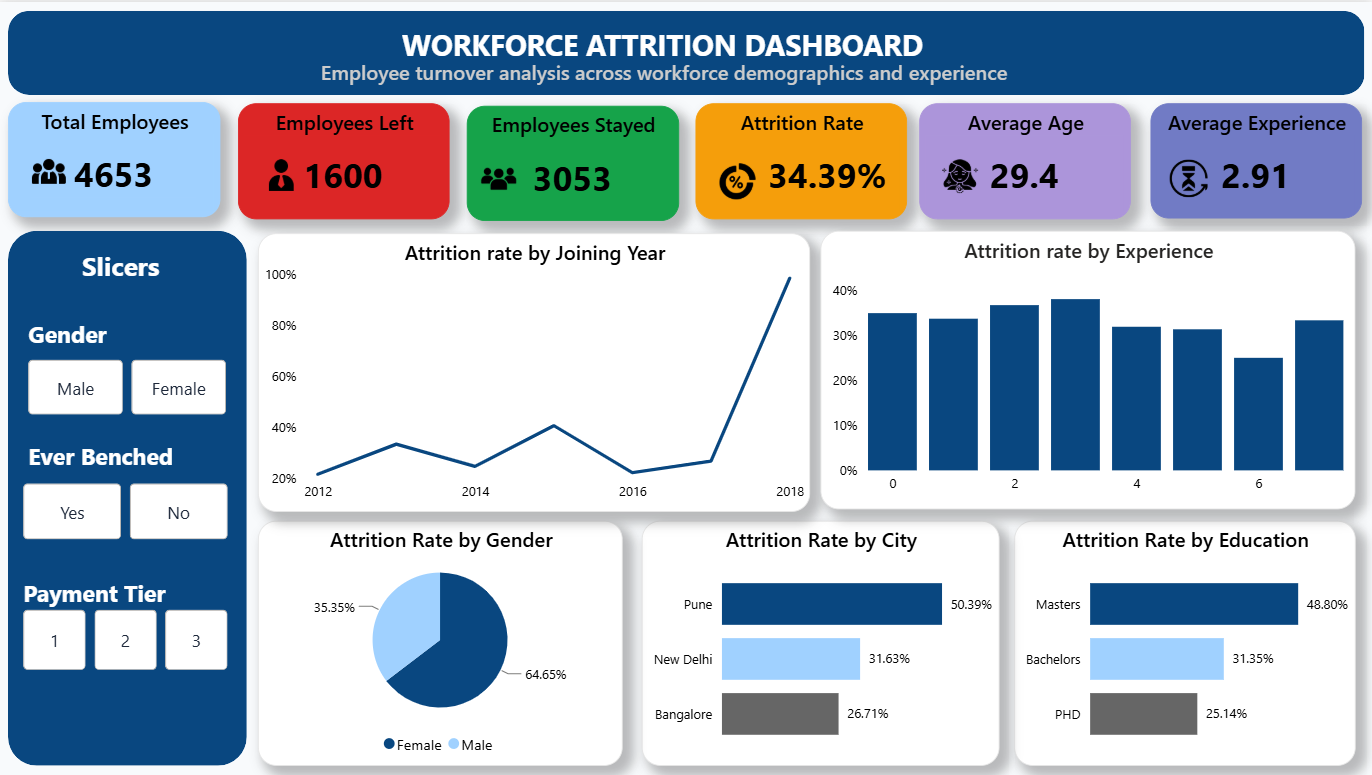

What the dashboard file says about the page in this screenshot:
{"tool":"powerbi","page":{"name":"Page 1","canvas":[1280,720],"ordinal":0},"visuals":[{"type":"shape","box":[9.8,8.6,1262,78.3],"z":0},{"type":"cardVisual","title":"Total Employees","fields":{"Data":["Employee.Total Employee"]},"box":[9.3,93,197.5,107.5],"z":0,"group":"g1"},{"type":"cardVisual","title":"Employees Left","fields":{"Data":["Employee.Employees Left"]},"box":[223.8,93.8,196.9,107.6],"z":0,"group":"g2"},{"type":"cardVisual","title":"Attrition Rate","fields":{"Data":["Employee.Attrition rate"]},"box":[648.8,93.8,196.9,107.6],"z":0,"group":"g4"},{"type":"cardVisual","title":"Average Age","fields":{"Data":["Employee.Average Age"]},"box":[857.5,93.8,196.9,107.6],"z":0,"group":"g5"},{"type":"cardVisual","title":"Average Experience","fields":{"Data":["Employee.Average Experience"]},"box":[1072.5,93.8,196.6,107.4],"z":0,"group":"g6"},{"type":"cardVisual","title":"Employees Stayed","fields":{"Data":["Employee.Employees Stayed"]},"box":[436.2,96.2,197.5,107.5],"z":0,"group":"g3"},{"type":"textbox","box":[370.9,16.3,503.5,53.5],"z":1000},{"type":"image","box":[10.5,140.7,73.3,33.7],"z":1000,"group":"g1"},{"type":"image","box":[241.9,143.3,43.4,33.8],"z":1000,"group":"g2"},{"type":"image","box":[858.7,144.5,73.6,33.8],"z":1000,"group":"g5"},{"type":"image","box":[1088.8,146.5,38.8,35.3],"z":1000,"group":"g6"},{"type":"image","box":[428.7,146.9,73.6,33.8],"z":1000,"group":"g3"},{"type":"image","box":[651,150.2,73.6,33.8],"z":1000,"group":"g4"},{"type":"group","id":"g1","title":"Group 1","box":[9.3,93,197.7,107],"z":2000},{"type":"group","id":"g2","title":"Group 1","box":[223.8,93.8,196.2,107.5],"z":3000},{"type":"group","id":"g3","title":"Group 1","box":[428.7,96.2,205,107.5],"z":4000},{"type":"group","id":"g4","title":"Group 1","box":[648.8,93.8,197.5,107.5],"z":5000},{"type":"group","id":"g5","title":"Group 1","box":[857.5,93.8,196.2,107.5],"z":6000},{"type":"group","id":"g6","title":"Group 1","box":[1072.5,93.8,197.5,107.5],"z":7000},{"type":"clusteredBarChart","title":"Attrition Rate by Education","fields":{"Category":["Employee.Education"],"Y":["Employee.Attrition rate"]},"box":[945.4,482.6,317.4,227.9],"z":8000},{"type":"clusteredBarChart","title":"Attrition Rate by City","fields":{"Category":["Employee.City"],"Y":["Employee.Attrition rate"]},"box":[598.8,482.6,332.6,227.9],"z":9000},{"type":"shape","box":[9.3,212.8,222.1,497.7],"z":10000},{"type":"advancedSlicerVisual","fields":{"Values":["Employee.Gender"]},"box":[23.5,328.2,195.4,61.5],"z":11000},{"type":"advancedSlicerVisual","fields":{"Values":["Employee.EverBenched"]},"box":[18.8,443.5,201.5,62.7],"z":12000},{"type":"advancedSlicerVisual","fields":{"Values":["Employee.PaymentTier"]},"box":[18.8,560,201.5,66.4],"z":13000},{"type":"textbox","box":[72.9,224.7,95.3,45.8],"z":14000},{"type":"textbox","box":[23.5,289.4,88.1,39.8],"z":15000},{"type":"textbox","box":[23.5,402.4,155.6,41],"z":16000},{"type":"textbox","box":[18.8,530.6,155.6,54.3],"z":17000},{"type":"pieChart","title":"Attrition Rate by Gender","fields":{"Category":["Employee.Gender"],"Y":["Employee.Attrition rate"]},"box":[241.9,482.6,339.5,227.9],"z":18000},{"type":"textbox","box":[295.3,47.7,675.6,54.7],"z":19000},{"type":"lineChart","title":"Attrition rate by Joining Year","fields":{"Category":["Employee.JoiningYear"],"Y":["Employee.Attrition rate"]},"box":[241.9,215.1,514,259.3],"z":20000},{"type":"clusteredColumnChart","title":"Attrition rate by Experience","fields":{"Category":["Employee.ExperienceInCurrentDomain"],"Y":["Employee.Attrition rate"]},"box":[765.1,212.8,497.7,259.3],"z":21000}]}

Visuals, with their boxes in screenshot pixels (x1, y1, x2, y2), scaled from the page's 1280x720 canvas onto the 1372x775 screenshot:
shape: bbox=(11, 9, 1363, 94)
"Total Employees" cardVisual: bbox=(10, 100, 222, 216)
"Employees Left" cardVisual: bbox=(240, 101, 451, 217)
"Attrition Rate" cardVisual: bbox=(695, 101, 906, 217)
"Average Age" cardVisual: bbox=(919, 101, 1130, 217)
"Average Experience" cardVisual: bbox=(1150, 101, 1360, 217)
"Employees Stayed" cardVisual: bbox=(468, 104, 679, 219)
textbox: bbox=(398, 18, 937, 75)
image: bbox=(11, 151, 90, 188)
image: bbox=(259, 154, 306, 191)
image: bbox=(920, 156, 999, 192)
image: bbox=(1167, 158, 1209, 196)
image: bbox=(460, 158, 538, 195)
image: bbox=(698, 162, 777, 198)
"Group 1" group: bbox=(10, 100, 222, 215)
"Group 1" group: bbox=(240, 101, 450, 217)
"Group 1" group: bbox=(460, 104, 679, 219)
"Group 1" group: bbox=(695, 101, 907, 217)
"Group 1" group: bbox=(919, 101, 1129, 217)
"Group 1" group: bbox=(1150, 101, 1361, 217)
"Attrition Rate by Education" clusteredBarChart: bbox=(1013, 519, 1354, 765)
"Attrition Rate by City" clusteredBarChart: bbox=(642, 519, 998, 765)
shape: bbox=(10, 229, 248, 765)
advancedSlicerVisual - Employee.Gender: bbox=(25, 353, 235, 419)
advancedSlicerVisual - Employee.EverBenched: bbox=(20, 477, 236, 545)
advancedSlicerVisual - Employee.PaymentTier: bbox=(20, 603, 236, 674)
textbox: bbox=(78, 242, 180, 291)
textbox: bbox=(25, 312, 120, 354)
textbox: bbox=(25, 433, 192, 477)
textbox: bbox=(20, 571, 187, 630)
"Attrition Rate by Gender" pieChart: bbox=(259, 519, 623, 765)
textbox: bbox=(317, 51, 1041, 110)
"Attrition rate by Joining Year" lineChart: bbox=(259, 232, 810, 511)
"Attrition rate by Experience" clusteredColumnChart: bbox=(820, 229, 1354, 508)
